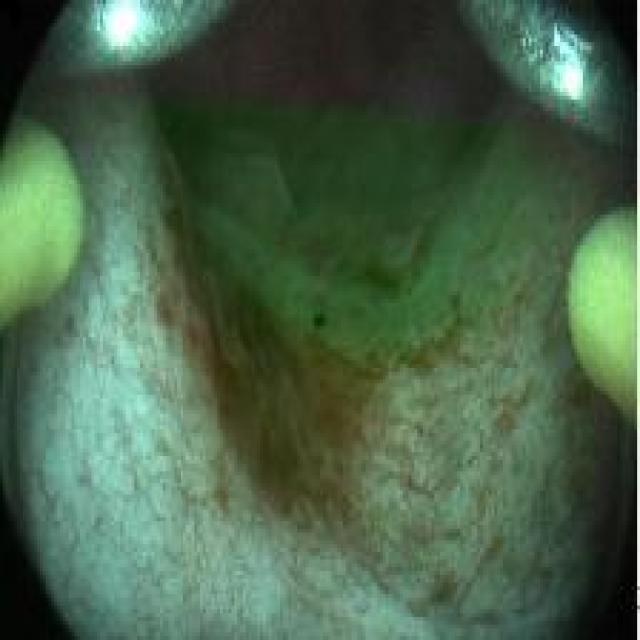color misalignment: (308, 302, 327, 337)
instrument: (459, 5, 636, 158), (1, 110, 85, 350), (570, 194, 636, 448), (27, 2, 227, 78)
specularity: (99, 3, 156, 50), (551, 36, 588, 103)
